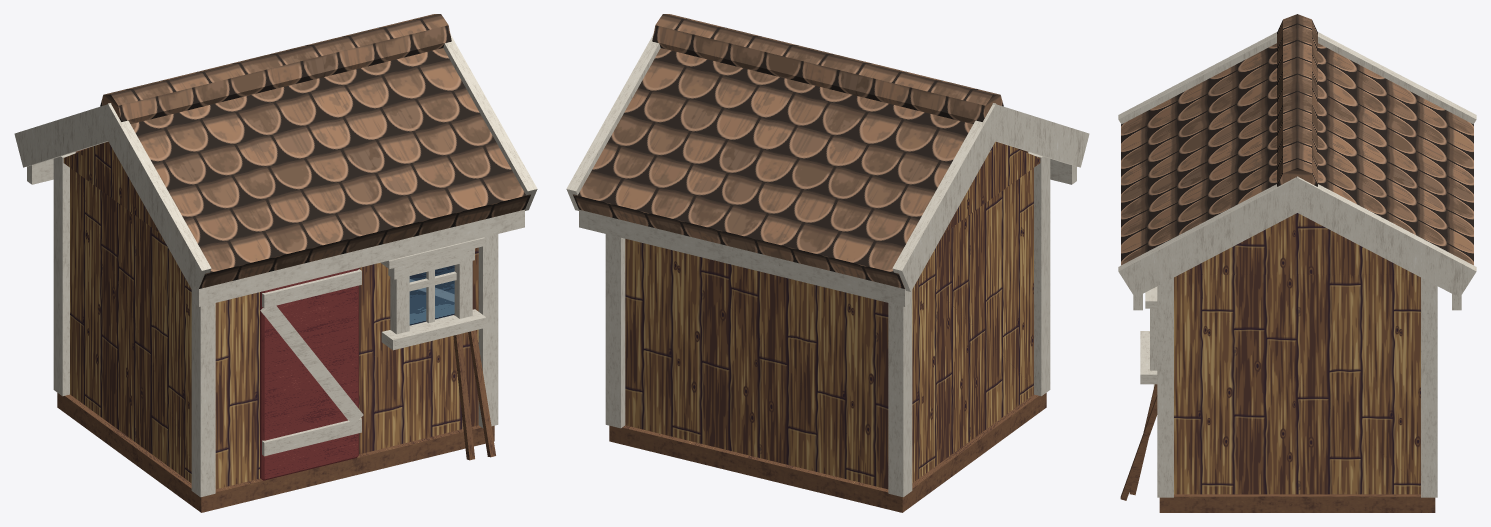
Rendered from garden_shed.glb.
The picture shows the model from 3 angles, left to right: view 1: azimuth 30°, elevation 25°; view 2: azimuth 150°, elevation 25°; view 3: azimuth 270°, elevation 25°; orthographic projection. The views are drawn at different scales.
Parts seen in each view (by area): view 1: Shed; view 2: Shed; view 3: Shed.
Part boxes in pixels (x1,y1,x2,y2): Shed: (14,14,537,512); Shed: (566,14,1089,512); Shed: (1118,14,1476,512).
Size of the model in its own units: 3.09 by 3.26 by 2.99.
Materials: 3 (3 with a texture image).
